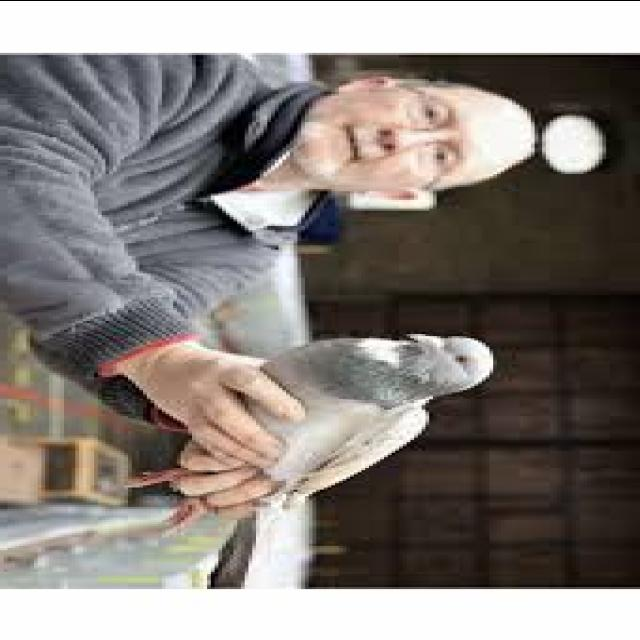pigeon: (148, 334, 510, 516)
